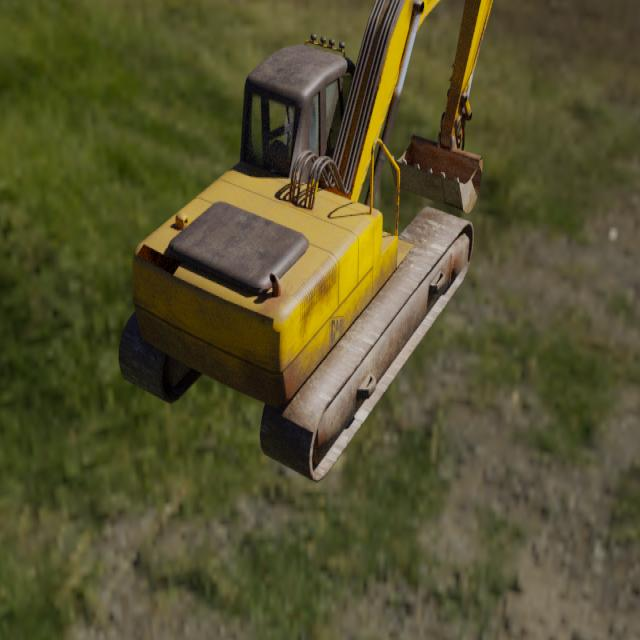excavator: (117, 0, 493, 484)
